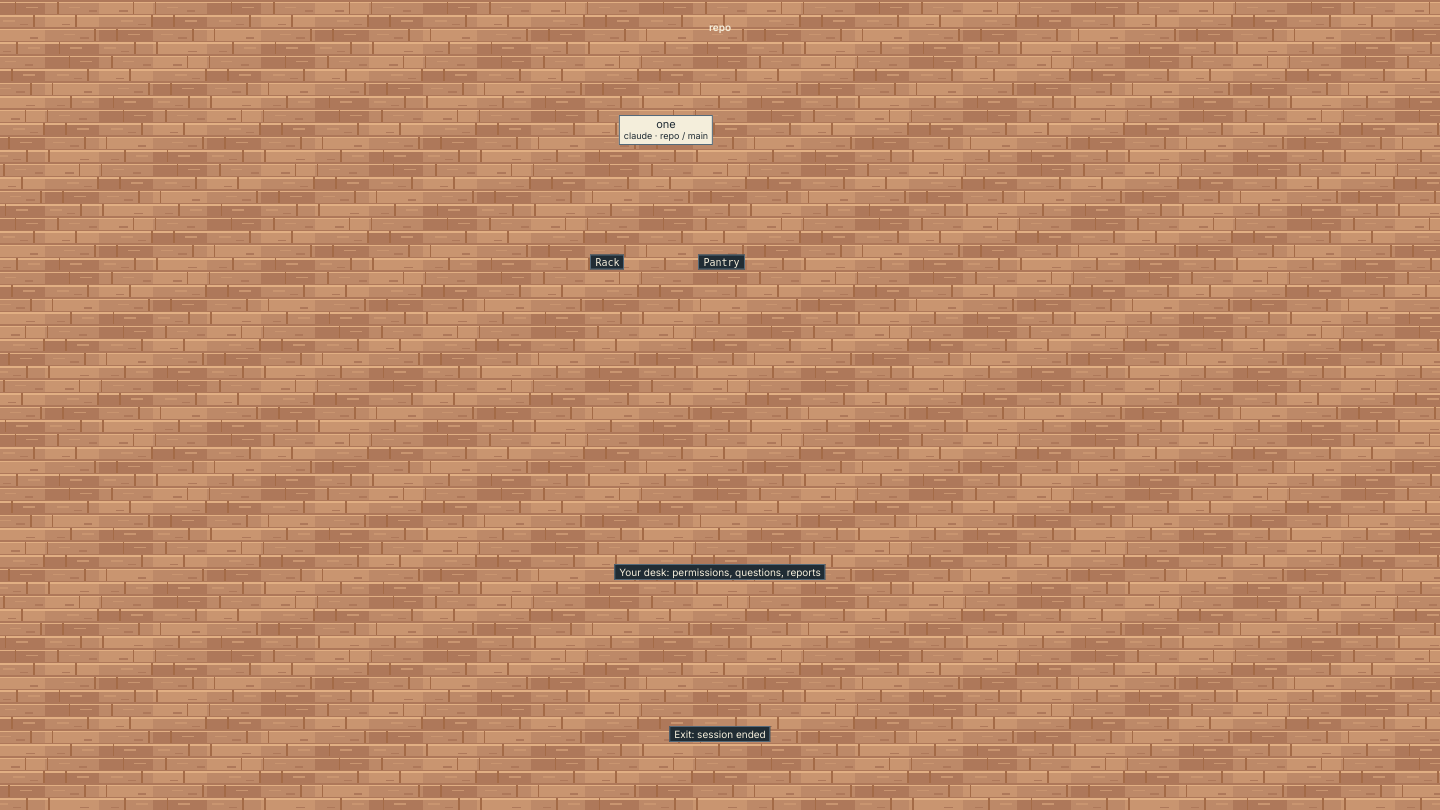
office page › opens the card from a plate and calls the source app endpoint
Later steps or results of the test are not shown.
Click the button with test id "name-plate" at x=666, y=130, box top-left (619, 115), bottom-right (713, 145)
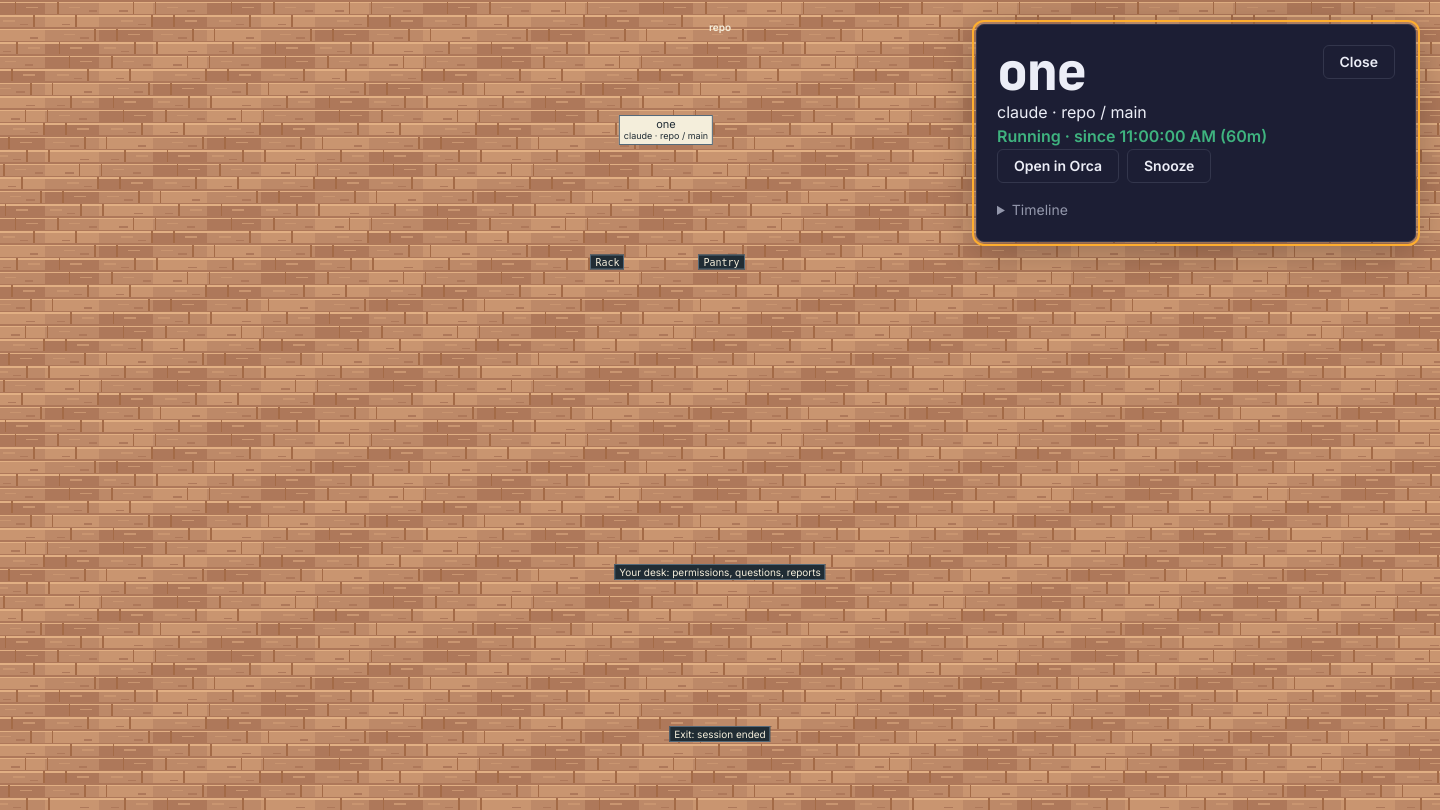
Check: the dialog shows "repo / main", box top-left (976, 24), bottom-right (1416, 242)
